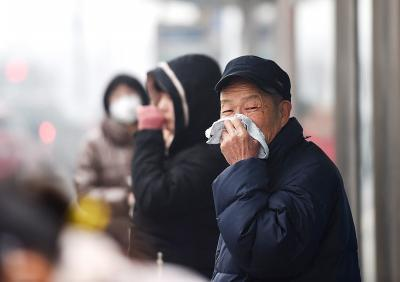NONE: (220, 97, 282, 159), (155, 88, 196, 134)
OK: (111, 86, 143, 128)
